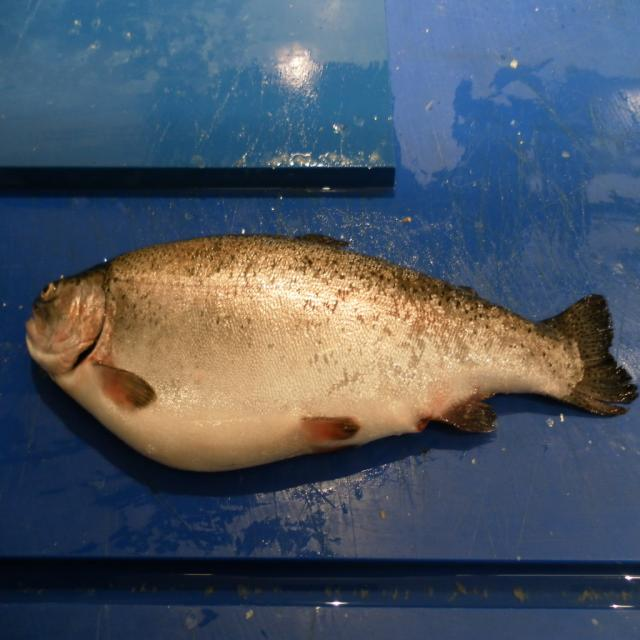Trout-alabalik-: (26, 235, 638, 471)
